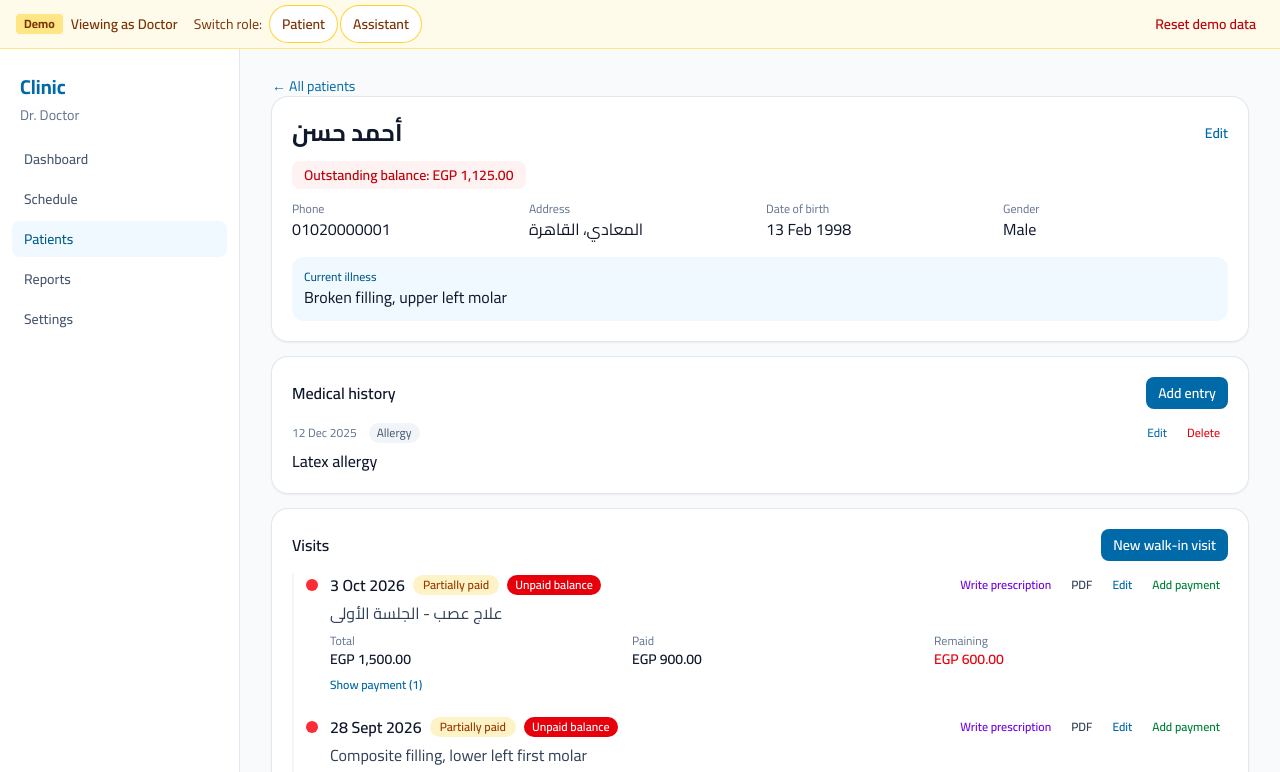
visit file in the demo › offers PDF only, and opens the print view of the report
The image size is (1280, 772).
Step 1. Click the button with aria-label "as PDF" → {"x": 1082, "y": 585}, box [1063, 573, 1100, 597]
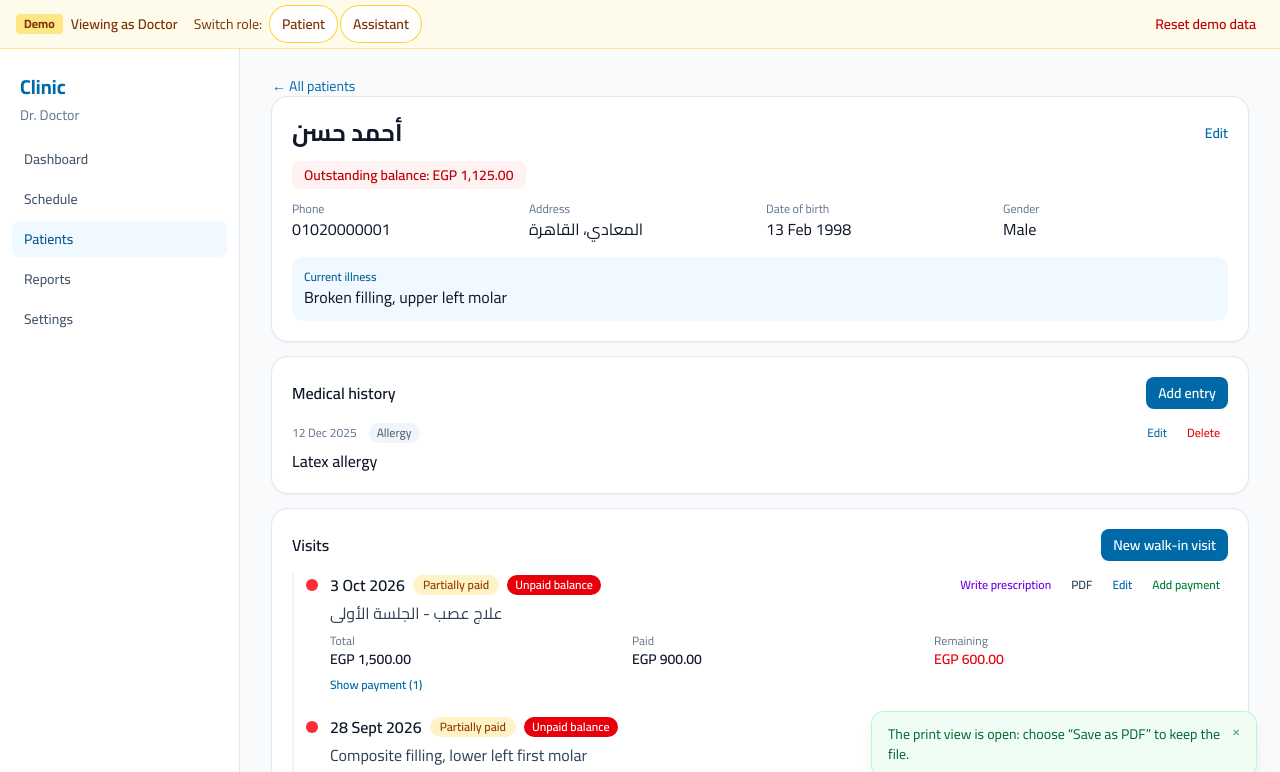
Expected: the text "The print view is open: choose “Save as PDF” to keep the file." is shown, [888, 724, 1220, 764]
